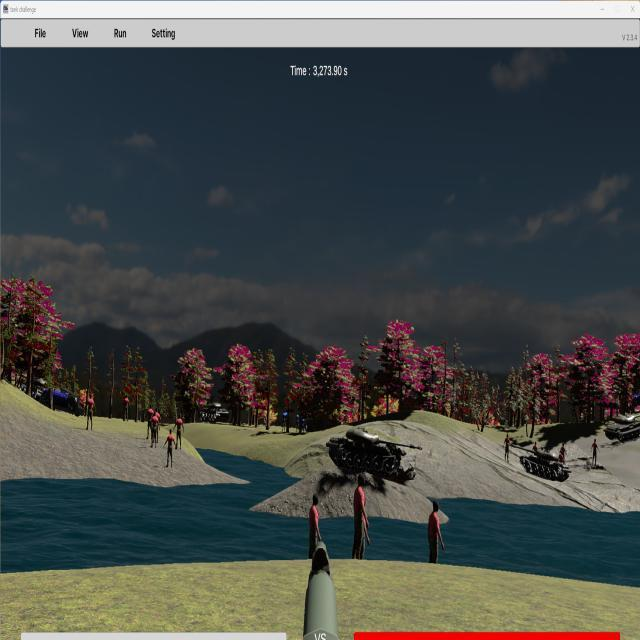Human: (427, 498, 445, 591), (309, 492, 321, 581), (84, 391, 96, 431)
Tank: (326, 427, 423, 483), (505, 441, 571, 483), (604, 412, 640, 443)
car: (39, 386, 83, 416)
